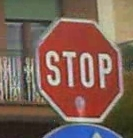stop: (33, 17, 125, 121)
